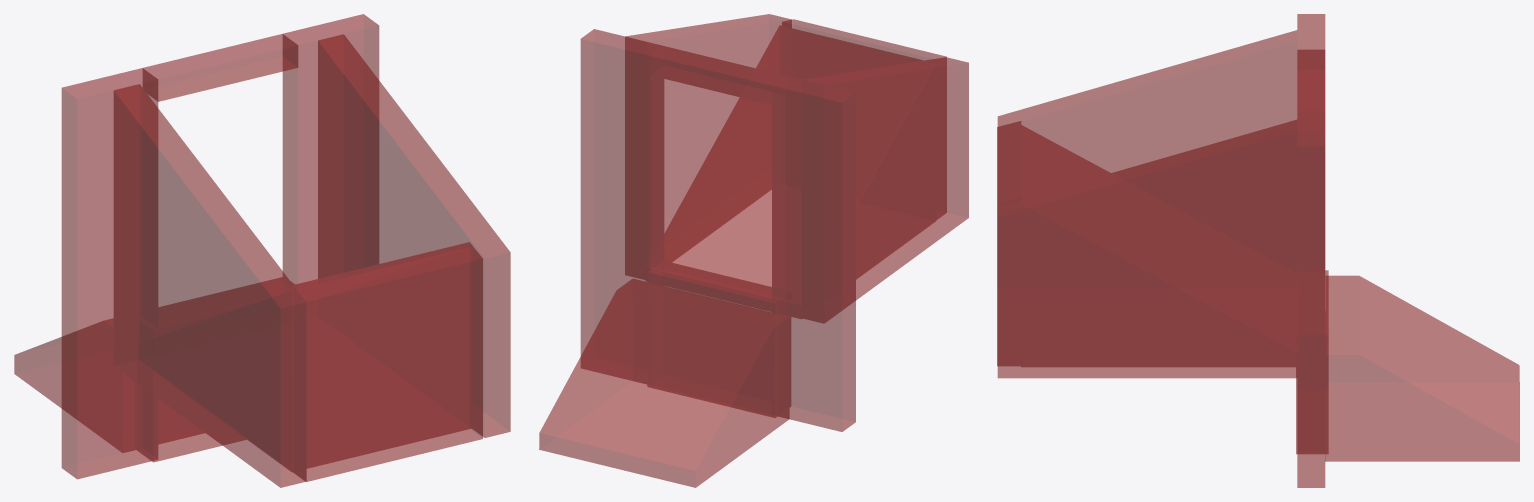
Rendered from SM_Bld_Basement_Entrance_01_Collision.fbx.
3 views of the same model, side by side, from view 1: azimuth 30°, elevation 25°; view 2: azimuth 150°, elevation 25°; view 3: azimuth 270°, elevation 25° (orthographic). The views are drawn at different scales.
Visible parts, largest first — view 1: SM_Bld_Basement_Entrance_01_Collision; view 2: SM_Bld_Basement_Entrance_01_Collision; view 3: SM_Bld_Basement_Entrance_01_Collision.
Boxes of the visible parts, x1,y1,x2,y2 form: SM_Bld_Basement_Entrance_01_Collision: (14,14,510,487); SM_Bld_Basement_Entrance_01_Collision: (539,14,968,487); SM_Bld_Basement_Entrance_01_Collision: (997,14,1519,487).
Size of the model in its own units: 250 by 302 by 417.
